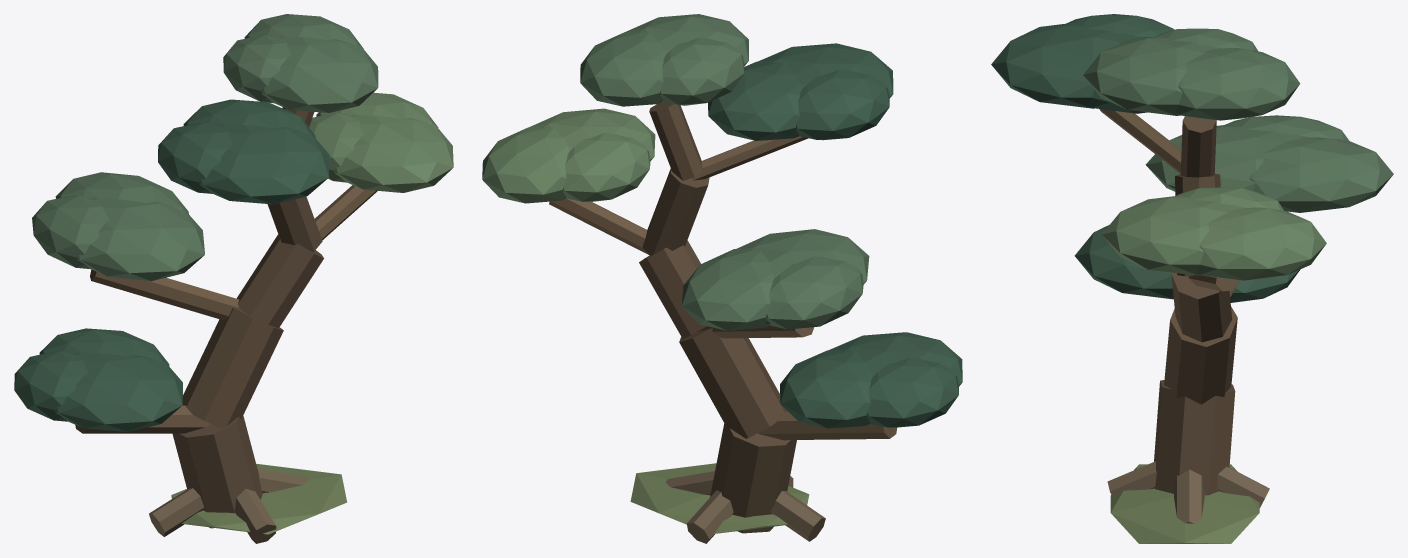
File: nature-bonsai.glb
3 renders of one model, left to right at view 1: azimuth 30°, elevation 25°; view 2: azimuth 150°, elevation 25°; view 3: azimuth 270°, elevation 25°, orthographic. The views are drawn at different scales.
Visible parts, largest first — view 1: SculptedModel; view 2: SculptedModel; view 3: SculptedModel.
Part boxes in pixels (x1,y1,x2,y2): SculptedModel: [14, 14, 453, 543]; SculptedModel: [482, 14, 962, 543]; SculptedModel: [991, 14, 1393, 543].
Bounding box in the file's own units: 2.48 × 2.58 × 1.89.
